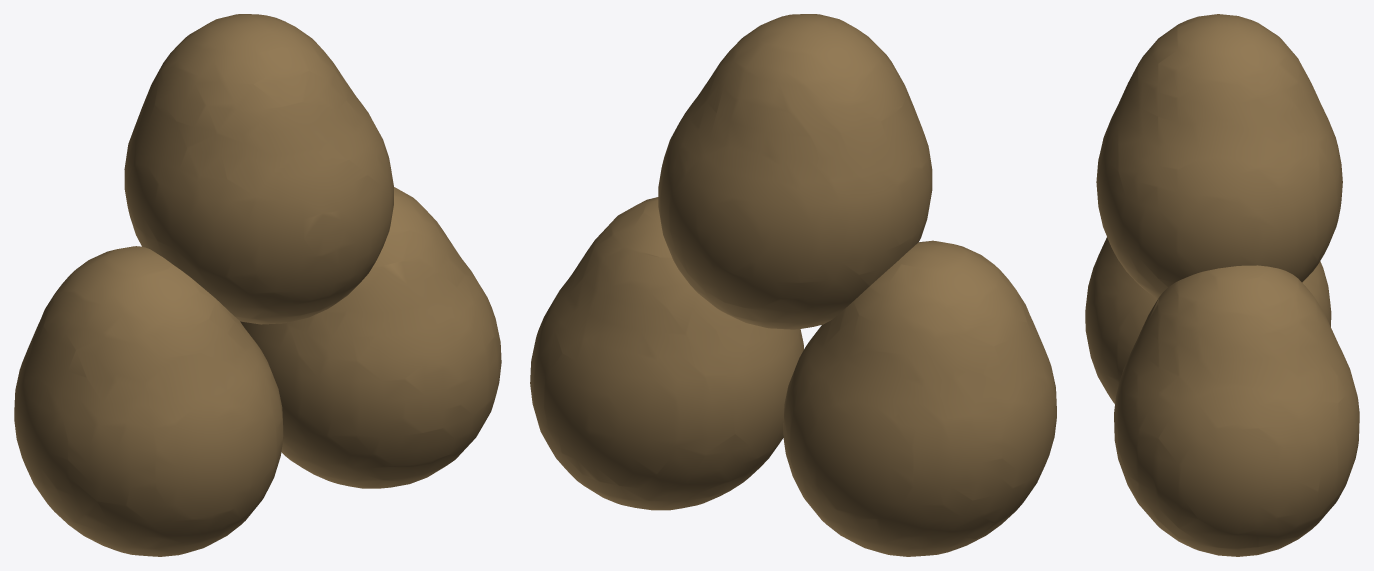
The model's file is sacks.glb.
The picture shows the model from 3 angles, left to right: view 1: azimuth 30°, elevation 25°; view 2: azimuth 150°, elevation 25°; view 3: azimuth 270°, elevation 25°; orthographic projection. The views are drawn at different scales.
Parts seen in each view (by area): view 1: sacks; view 2: sacks; view 3: sacks.
Part boxes in pixels (box(x1,y1,x2,y2)): sacks: box(14, 14, 501, 556); sacks: box(530, 14, 1056, 556); sacks: box(1085, 14, 1359, 556).
Bounding box in the file's own units: 0.8837 × 0.8919 × 0.4807.
